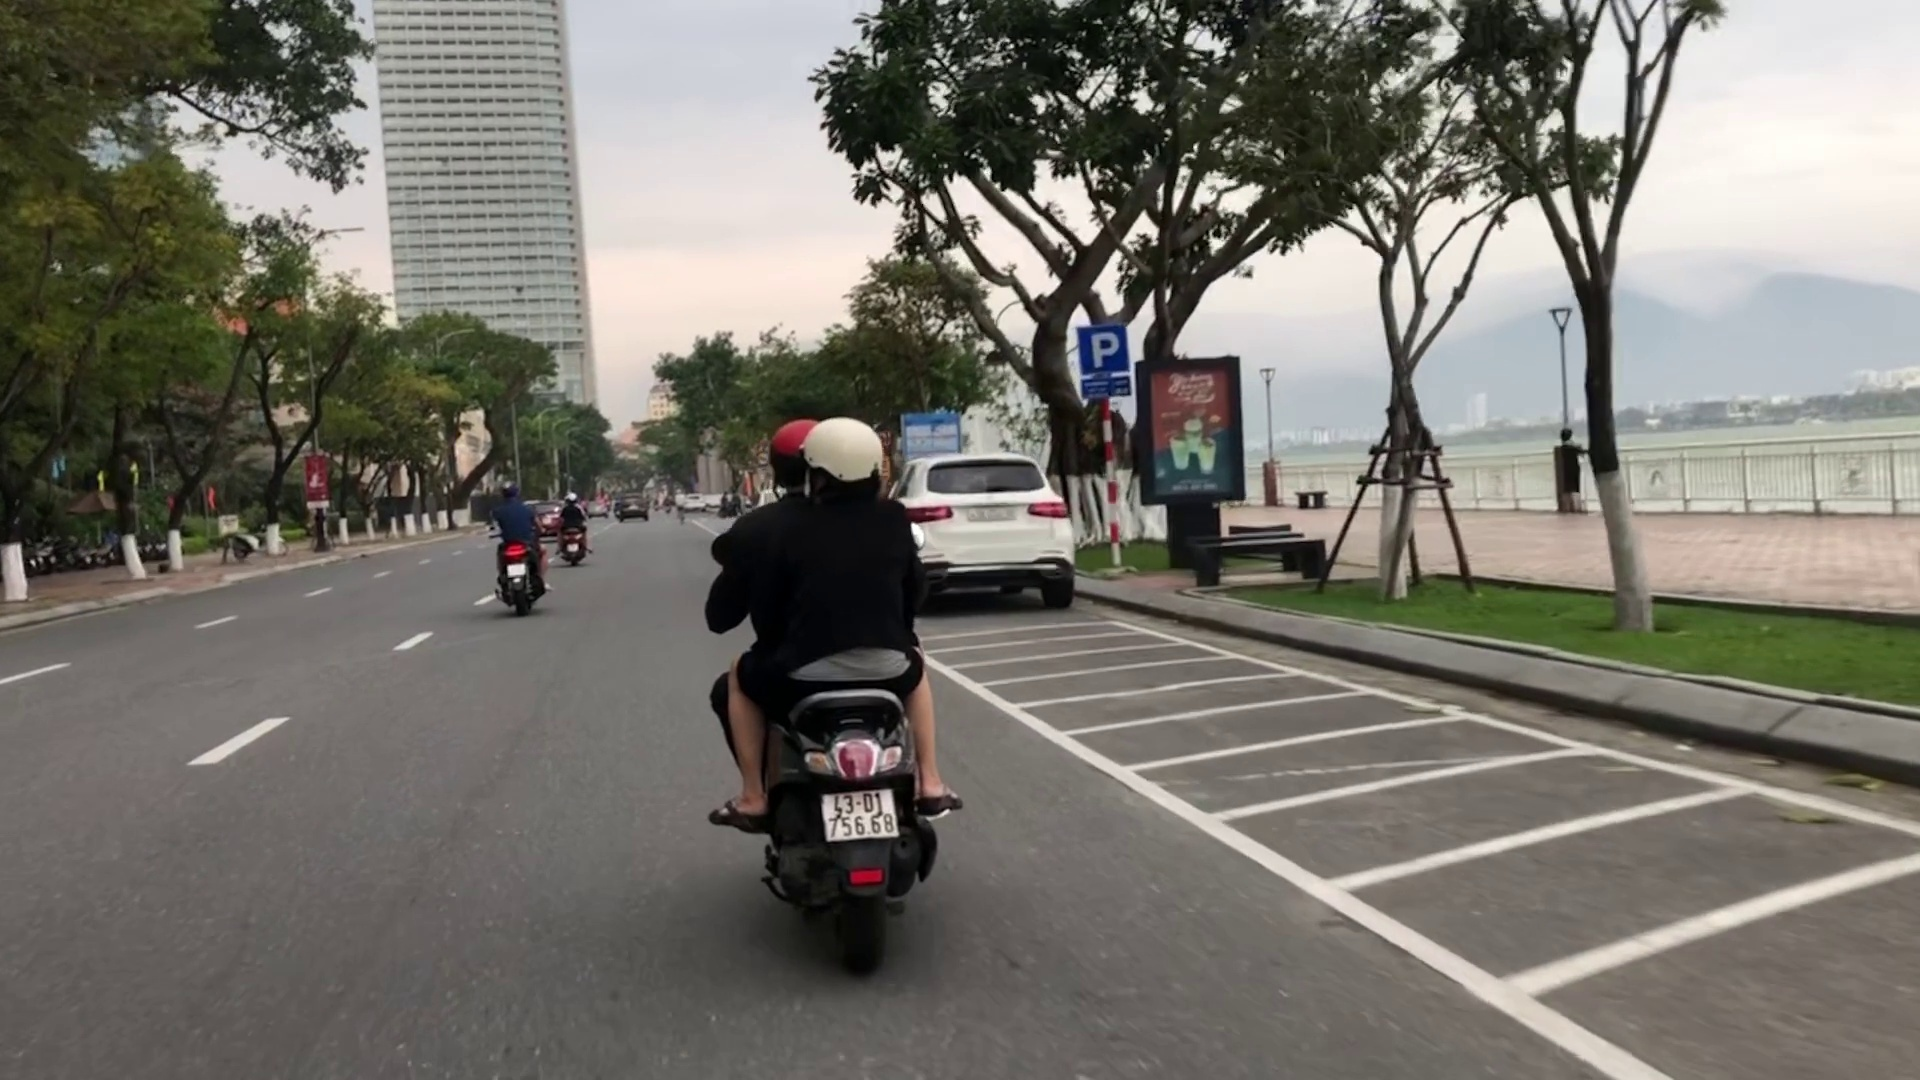Bien khac: (1071, 323, 1129, 369)
